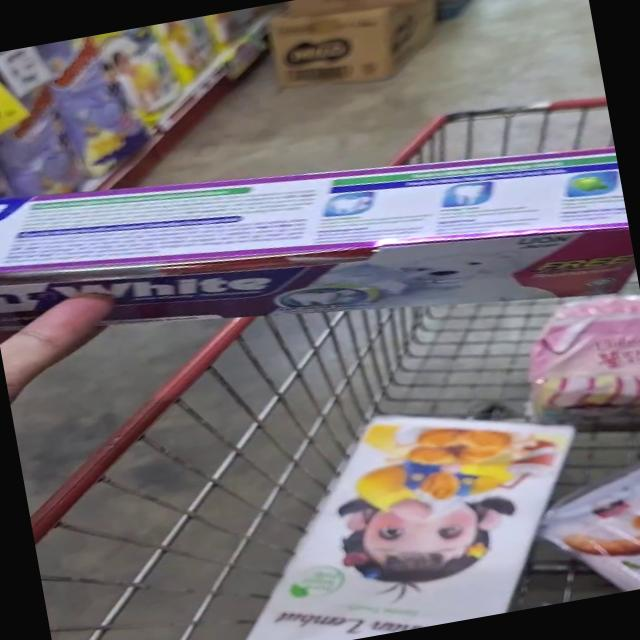Tisu: (296, 370, 598, 580), (208, 485, 533, 640)
Ubat Gigi: (295, 116, 640, 349), (0, 133, 320, 356)
